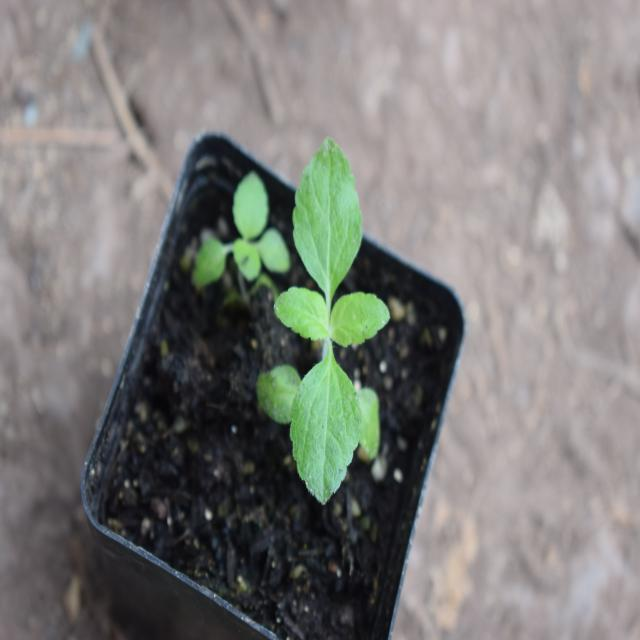billygoat_weed: (267, 126, 401, 500)
